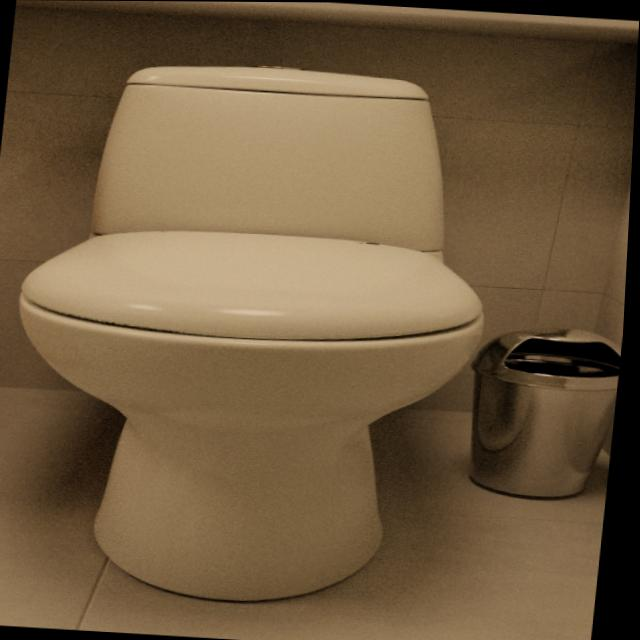toilet: (0, 52, 513, 614)
